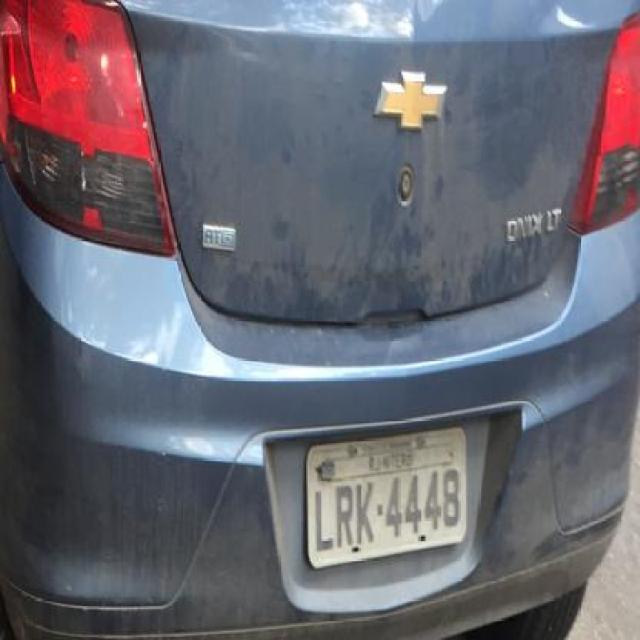old_plate: (297, 420, 473, 575)
